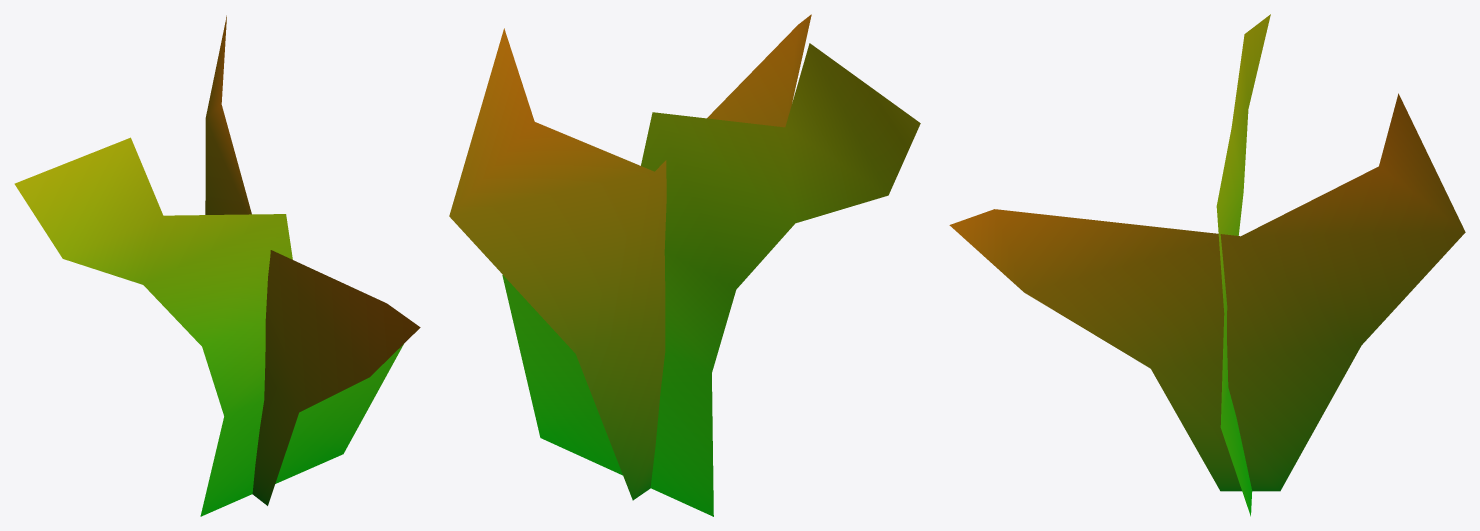
The model's file is Var11Hi22.fbx.
The picture shows the model from 3 angles, left to right: view 1: azimuth 30°, elevation 25°; view 2: azimuth 150°, elevation 25°; view 3: azimuth 270°, elevation 25°; orthographic projection. The views are drawn at different scales.
Visible parts, largest first — view 1: bend1; view 2: bend1; view 3: bend1.
Part boxes in pixels (x1,y1,x2,y2): bend1: (14, 15, 420, 516); bend1: (449, 14, 920, 516); bend1: (949, 14, 1465, 516).
Bounding box in the file's own units: 1.35 × 1.5 × 1.63.
